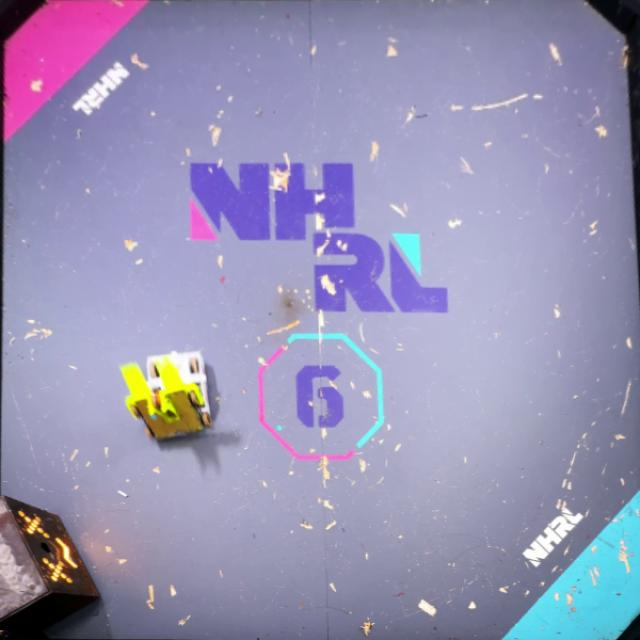housebot: (0, 490, 105, 640)
robot: (116, 363, 212, 444), (146, 351, 210, 413)
